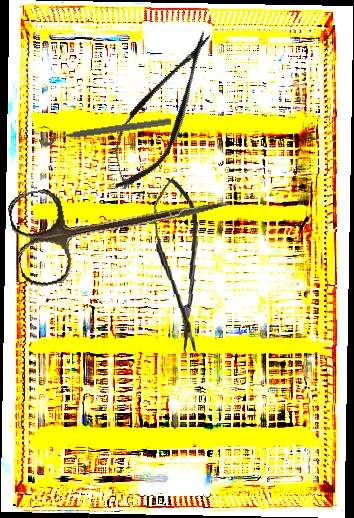Fixation Ring: (37, 106, 172, 148)
Iris Scissors: (5, 152, 236, 291)
Micro Scissor: (93, 18, 231, 203), (151, 176, 207, 355)
